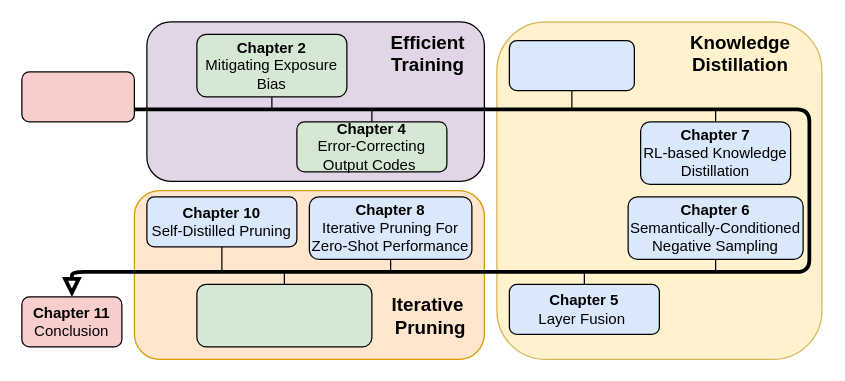
Image size: 845x381. Some labels were removed from this diagram. Here are the shapes that lost their labels. From the top down, the centre of each, then its label:
[571,65]: Chapter 3 Meta-Embedding
[77,96]: Chapter 1 Introduction
[284,315]: Chapter 9 Gradient Sparsification for Improving Fine-Tuning
